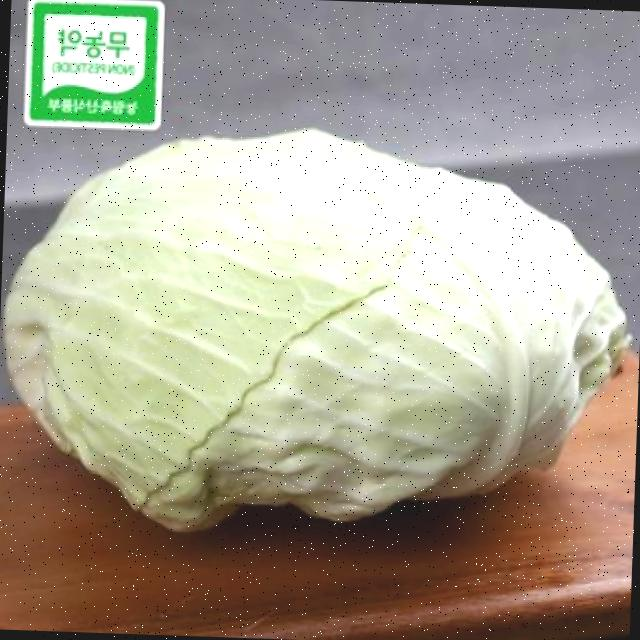cabbage: (0, 151, 608, 561)
